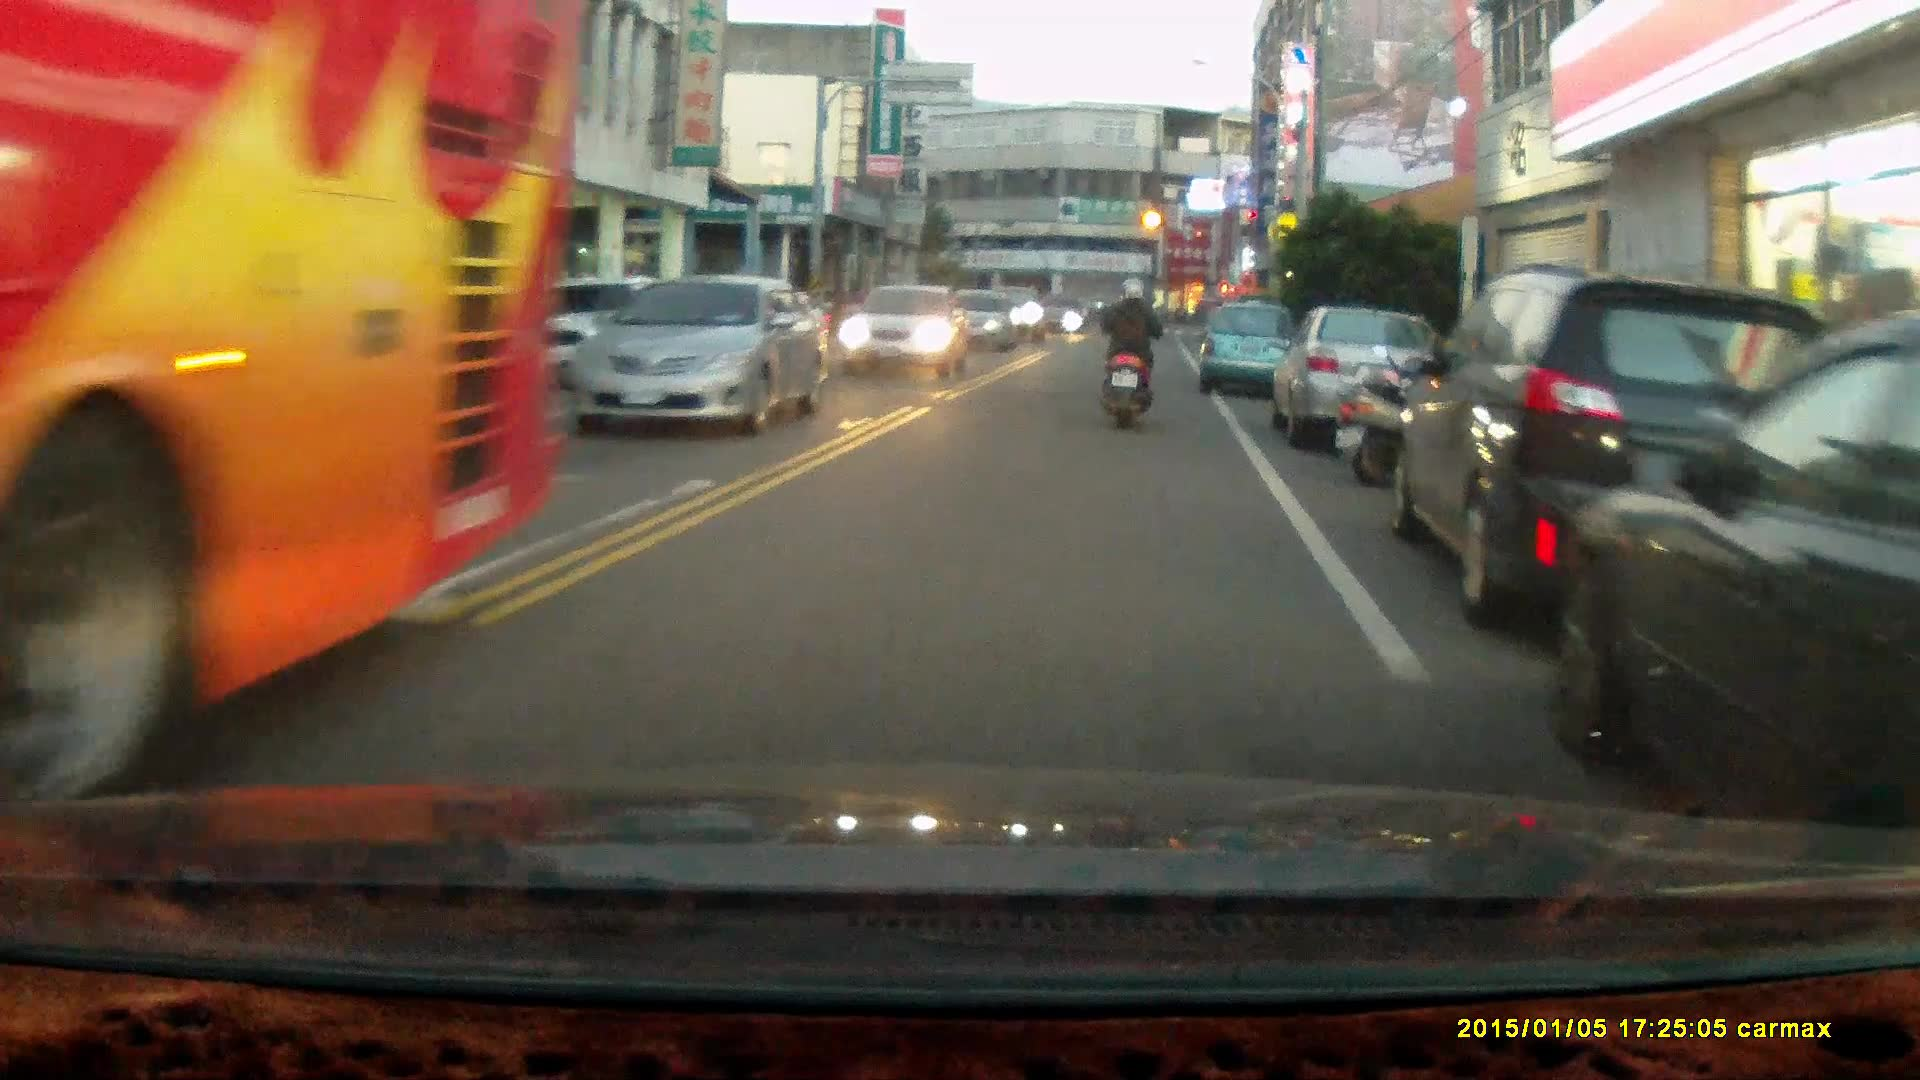rider: (1093, 275, 1161, 432)
vehicle: (1, 9, 570, 809), (1391, 264, 1893, 626), (1551, 329, 1920, 821), (567, 269, 832, 443), (1278, 304, 1453, 457), (841, 284, 971, 379), (1197, 301, 1303, 401), (940, 286, 1024, 355)
